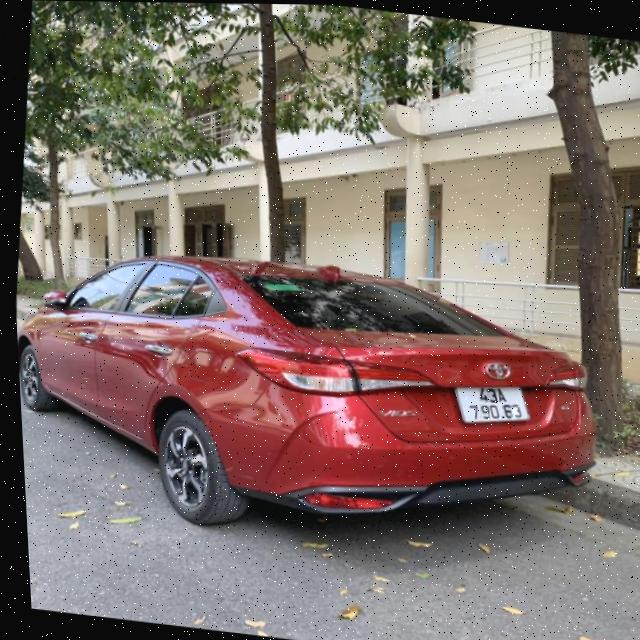car: (12, 227, 622, 575)
plate: (447, 372, 536, 436)
